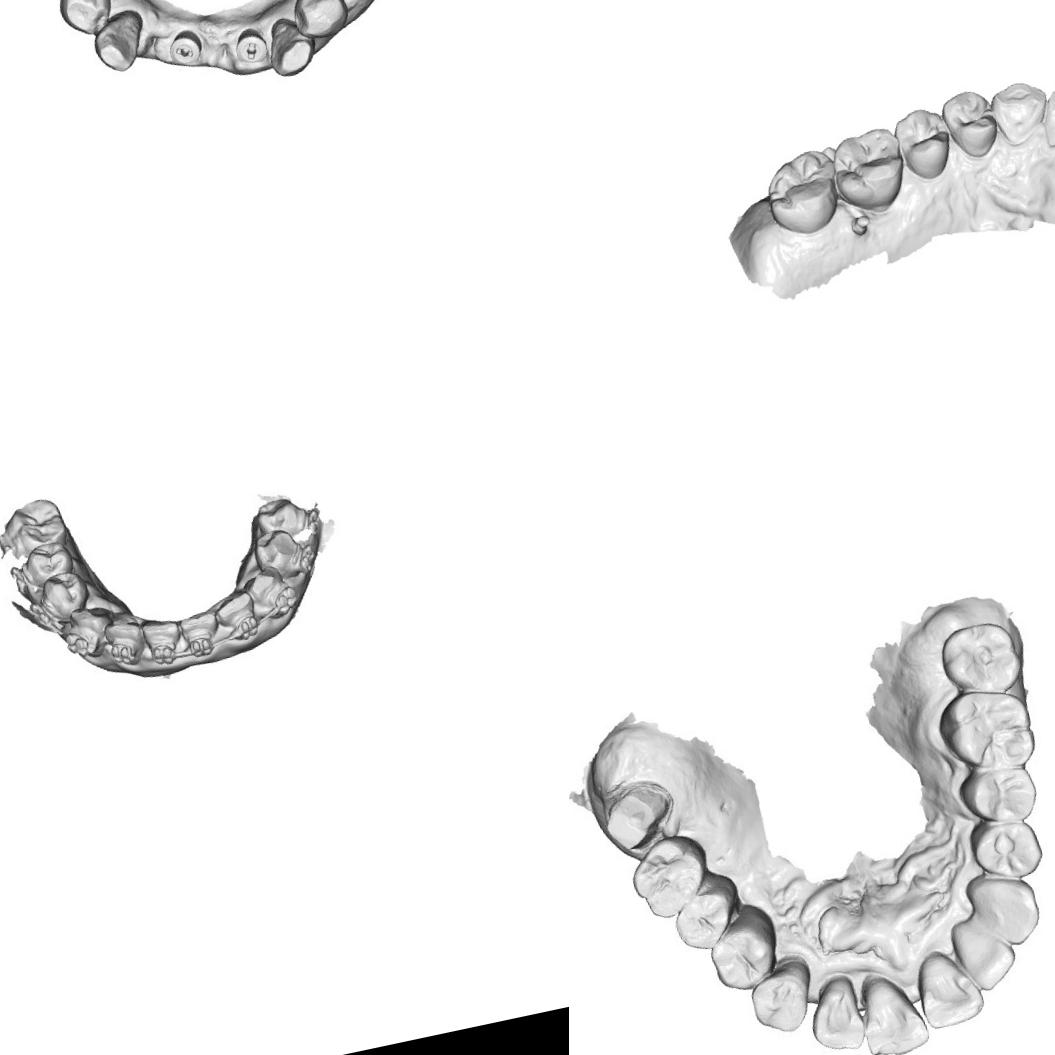canine: (960, 866, 1046, 958), (743, 958, 818, 1044), (984, 73, 1055, 150), (86, 7, 152, 78), (260, 10, 322, 81), (71, 602, 116, 642), (246, 566, 284, 604)
crown: (592, 776, 683, 860)
implant_minus: (164, 26, 206, 76), (230, 24, 270, 74)
incisor: (850, 968, 935, 1055), (911, 942, 987, 1034), (946, 910, 1026, 996), (802, 973, 866, 1055), (216, 589, 256, 624), (1036, 77, 1055, 147), (177, 610, 216, 644), (142, 617, 179, 647), (105, 616, 140, 644)
molar: (930, 681, 1042, 782), (622, 828, 718, 927), (756, 144, 848, 242), (932, 612, 1027, 705), (825, 121, 913, 218), (8, 492, 70, 551)
premolar: (702, 910, 784, 999), (953, 755, 1044, 833), (967, 812, 1050, 887), (889, 101, 959, 186), (937, 83, 1004, 166), (668, 880, 740, 954), (284, 0, 352, 44), (52, 0, 121, 42), (249, 526, 302, 575), (254, 492, 307, 539), (28, 540, 78, 585), (40, 573, 88, 618)
